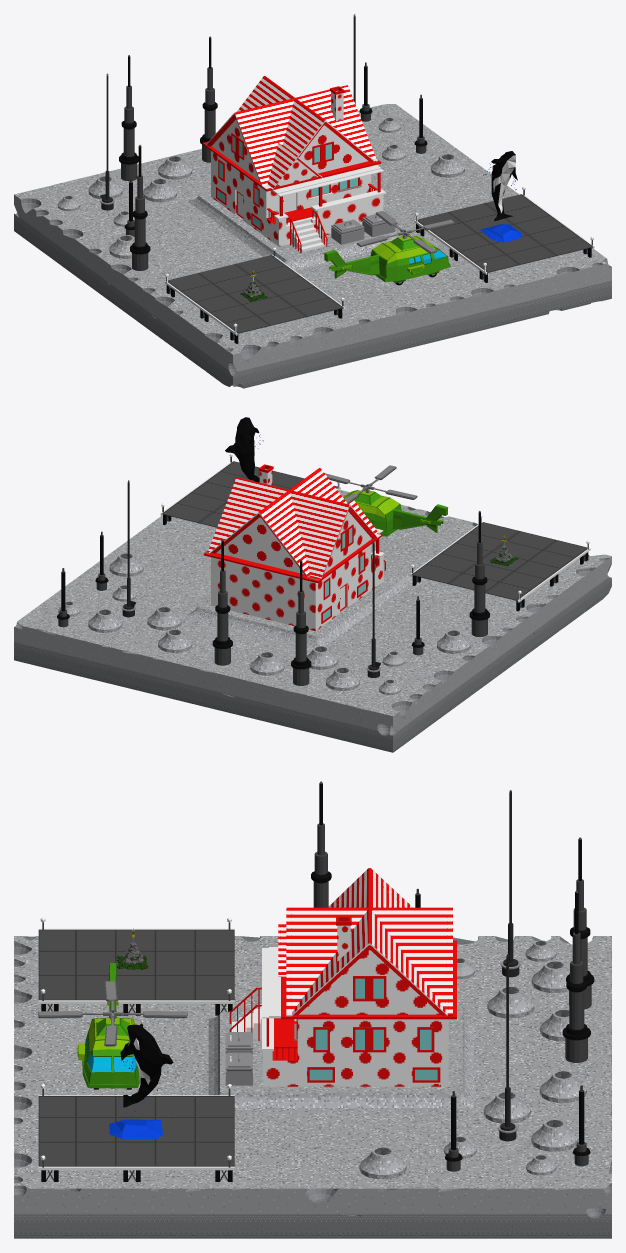
The picture shows the model from 3 angles, top to bottom: view 1: azimuth 30°, elevation 25°; view 2: azimuth 150°, elevation 25°; view 3: azimuth 270°, elevation 25°; orthographic projection. The views are drawn at different scales.
Visible parts, largest first — view 1: Cube.027, Cube.196, Cube.025, Cube.026, VEHICLES_HELICOPTER, Cube.028, ANIMAL_ORCA, Cylinder.021, Cylinder.020, Cylinder.017, Cube.029, Cylinder.027 (+5 smaller); view 2: Cube.027, Cube.196, Cube.025, Cube.028, Cube.026, VEHICLES_HELICOPTER, Cylinder.017, Cylinder.020, Cylinder.021, ANIMAL_ORCA, Cylinder.030, Cylinder.027 (+8 smaller); view 3: Cube.027, Cube.196, Cube.025, Cube.026, Cube.028, VEHICLES_HELICOPTER, ANIMAL_ORCA, Cylinder.017, Cylinder.020, Cylinder.021, Cylinder.033, Cylinder.031 (+10 smaller).
Part boxes in pixels (bbox=[...]): Cube.027: bbox=[14, 104, 611, 388]; Cube.196: bbox=[202, 76, 386, 252]; Cube.025: bbox=[164, 247, 344, 343]; Cube.026: bbox=[414, 186, 594, 282]; VEHICLES_HELICOPTER: bbox=[324, 211, 454, 285]; Cube.028: bbox=[188, 192, 413, 269]; ANIMAL_ORCA: bbox=[480, 151, 521, 242]; Cylinder.021: bbox=[130, 145, 150, 270]; Cylinder.020: bbox=[119, 55, 138, 181]; Cylinder.017: bbox=[200, 36, 217, 162]; Cube.029: bbox=[331, 219, 364, 244]; Cylinder.027: bbox=[158, 155, 192, 179]; Cube.027: bbox=[14, 490, 611, 752]; Cube.196: bbox=[203, 464, 385, 631]; Cube.025: bbox=[410, 514, 590, 611]; Cube.028: bbox=[187, 566, 412, 647]; Cube.026: bbox=[160, 453, 340, 527]; VEHICLES_HELICOPTER: bbox=[325, 465, 448, 536]; Cylinder.017: bbox=[212, 539, 232, 665]; Cylinder.020: bbox=[291, 559, 311, 685]; Cylinder.021: bbox=[469, 511, 489, 636]; ANIMAL_ORCA: bbox=[225, 417, 263, 482]; Cylinder.030: bbox=[147, 606, 181, 630]; Cylinder.027: bbox=[250, 651, 284, 675]; Cube.027: bbox=[14, 936, 611, 1238]; Cube.196: bbox=[229, 868, 456, 1086]; Cube.025: bbox=[38, 917, 234, 1015]; Cube.026: bbox=[38, 1084, 234, 1181]; Cube.028: bbox=[208, 1011, 474, 1107]; VEHICLES_HELICOPTER: bbox=[38, 963, 187, 1089]; ANIMAL_ORCA: bbox=[109, 1023, 173, 1138]; Cylinder.017: bbox=[562, 890, 590, 1062]; Cylinder.020: bbox=[566, 837, 594, 1009]; Cylinder.021: bbox=[311, 781, 331, 907]; Cylinder.033: bbox=[359, 1146, 406, 1179]; Cylinder.031: bbox=[531, 1119, 578, 1151].
Bounding box in the file's own units: 4000 × 1803 × 4000.
Materials: 35 (5 with a texture image).
